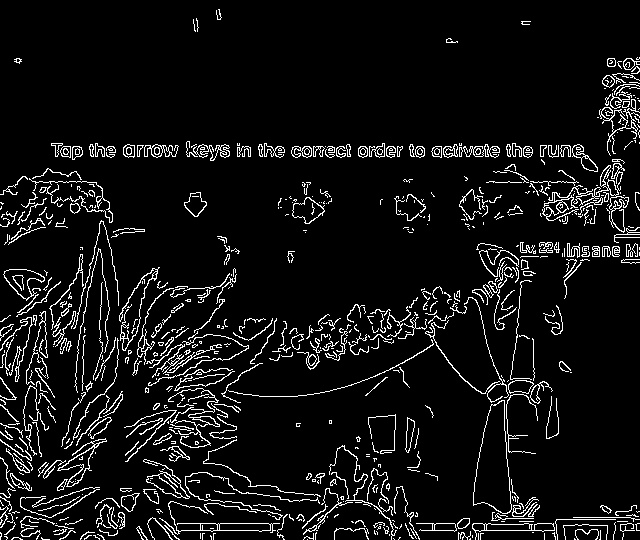down: (178, 185, 213, 223)
left: (451, 184, 493, 225)
right: (285, 189, 333, 232), (390, 188, 430, 226)
